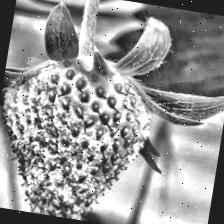Powdery Mildew Fruit: (0, 46, 160, 224)
